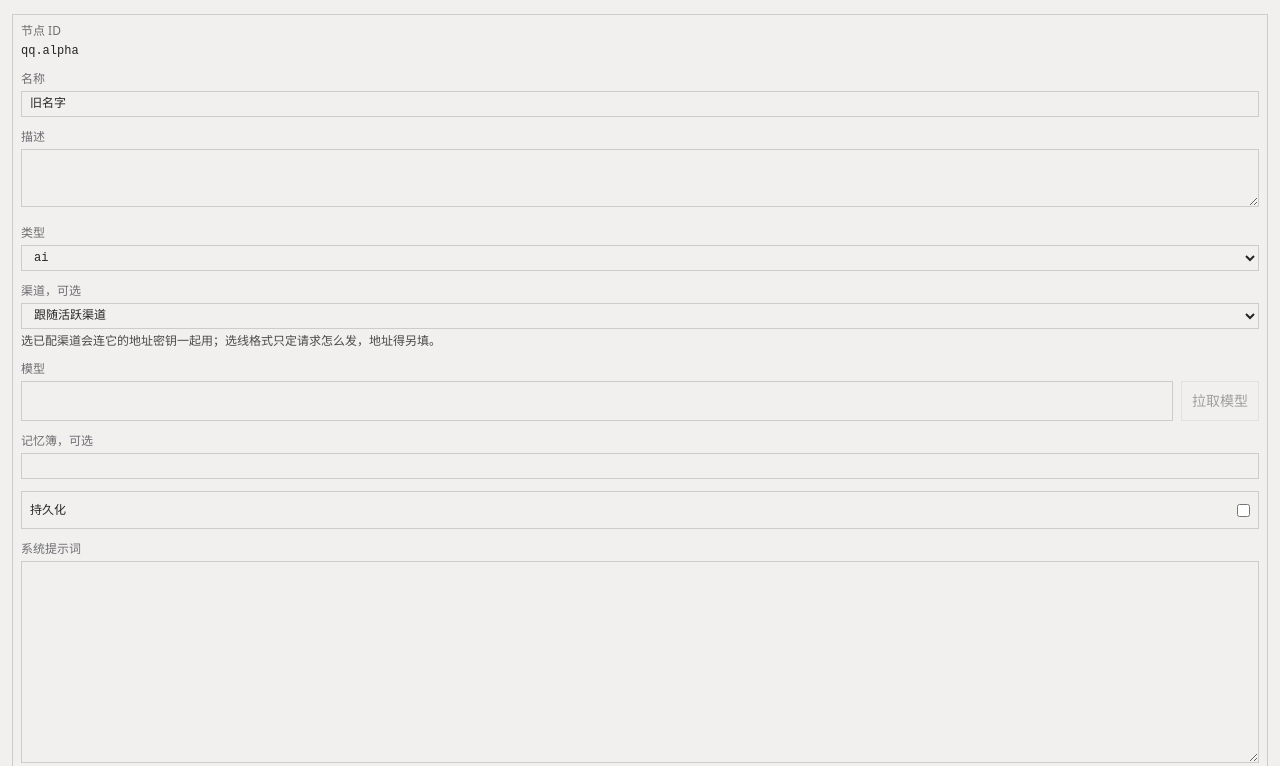
节点编辑器 › 「刷新」重读文件，换上别处刚写下的那一版
Replace the text in the field labelled "名称" with "本地草稿": (640, 104) [21,91,1259,117]
(page scrolled)
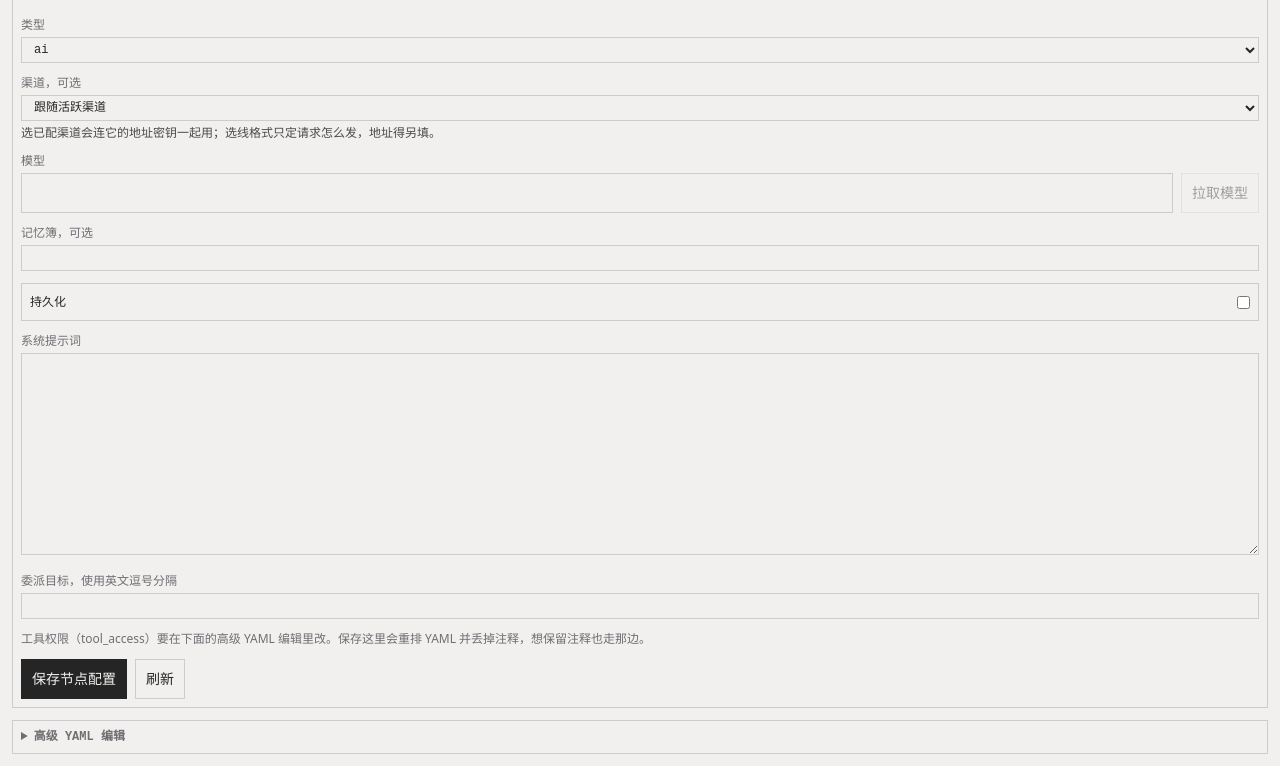
Click the button "刷新": (160, 679) [135,659,185,699]
(page scrolled)
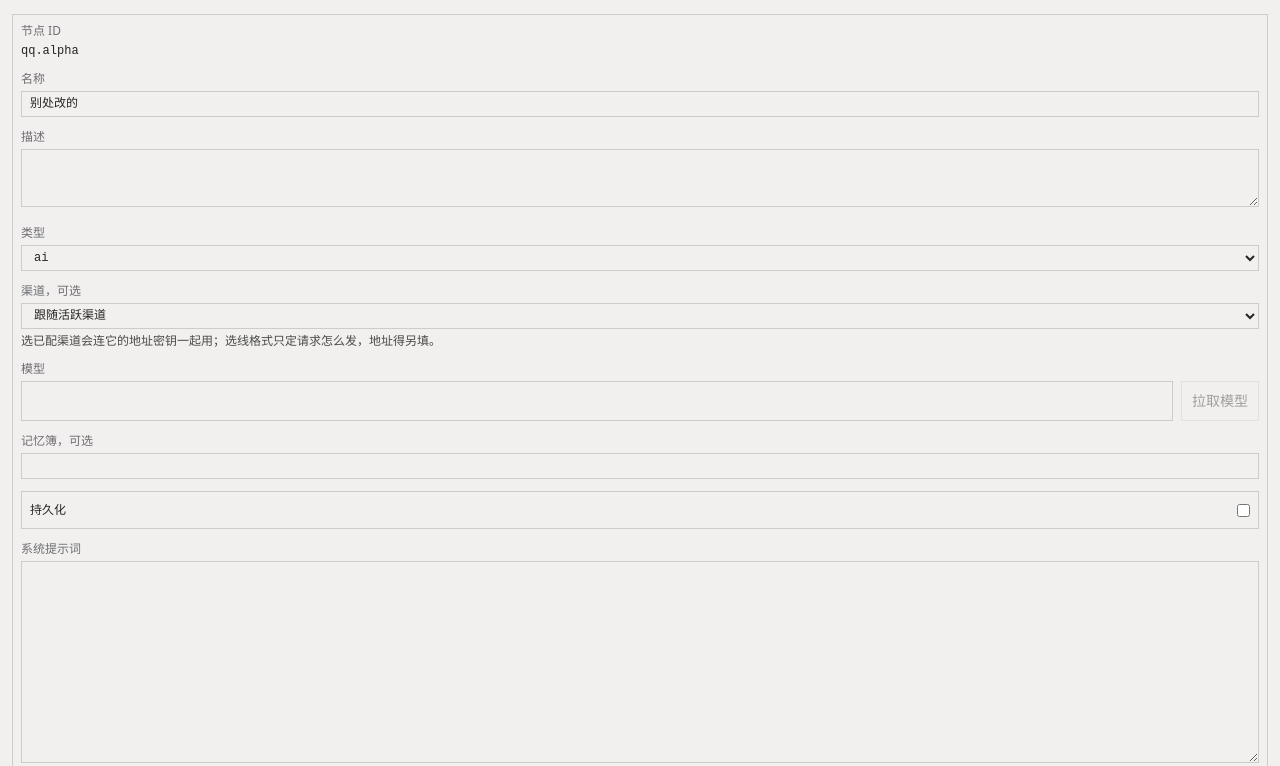
Expected: the field labelled "名称" holds "别处改的", [21,91,1259,117]
